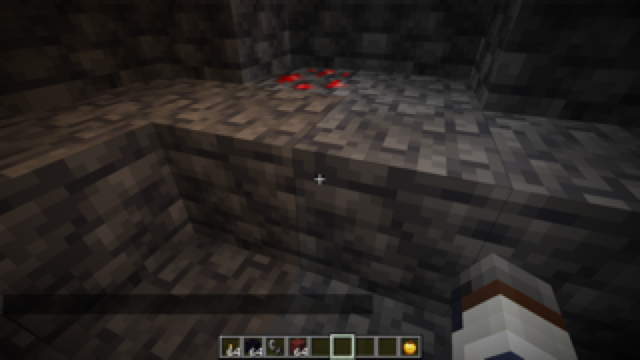redstone: (253, 54, 362, 104)
